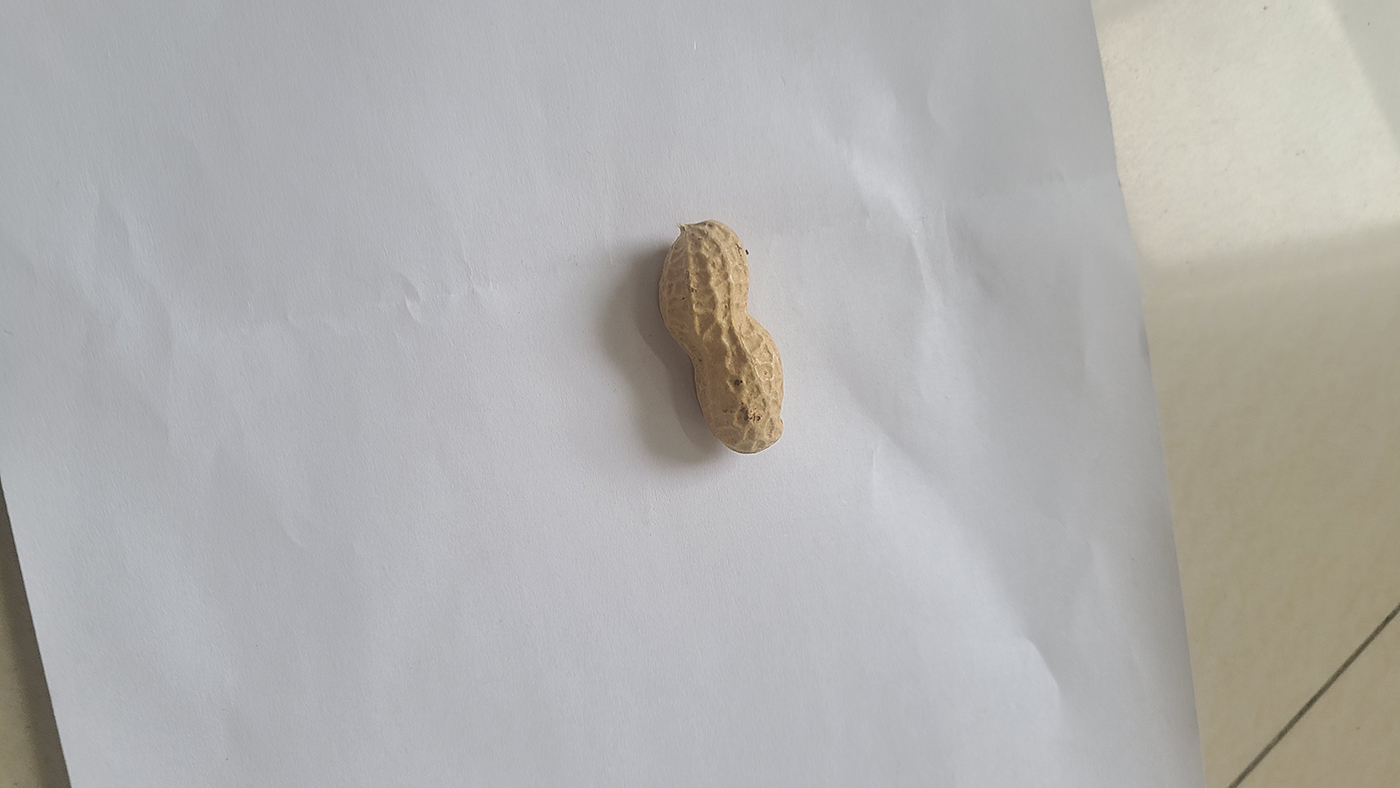h: (659, 221, 784, 453)
